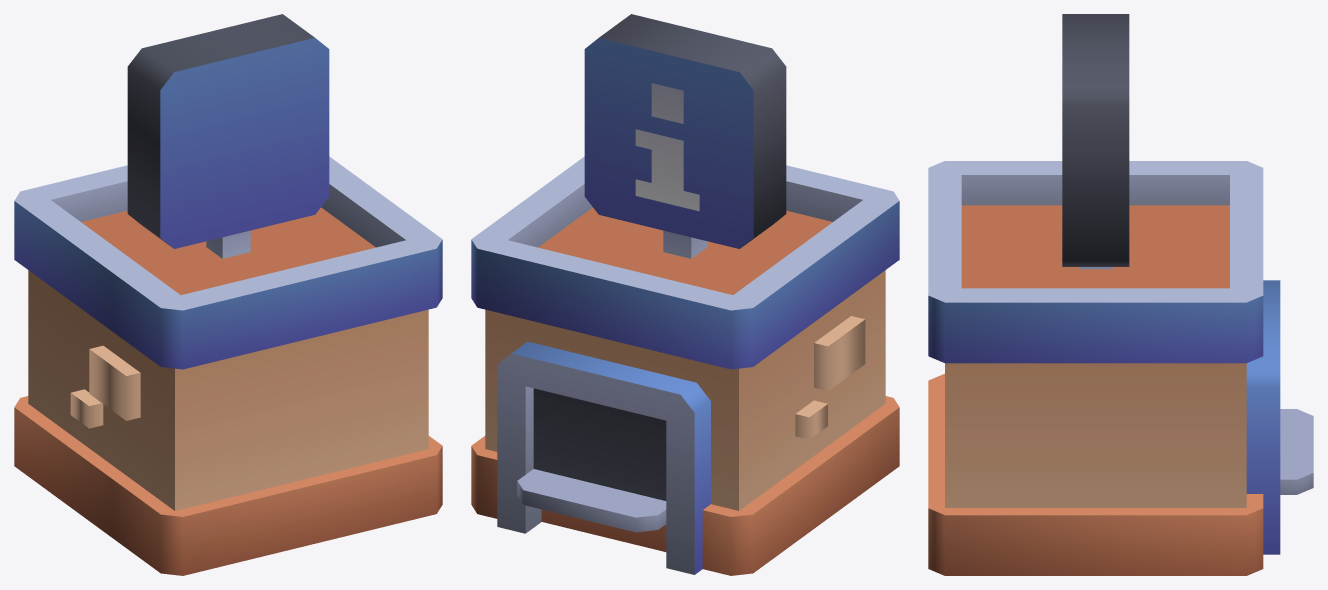
Rendered from kenney-coaster-stall-information.glb.
The picture shows the model from 3 angles, left to right: view 1: azimuth 30°, elevation 25°; view 2: azimuth 150°, elevation 25°; view 3: azimuth 270°, elevation 25°; orthographic projection. The views are drawn at different scales.
Parts seen in each view (by area): view 1: stall-information; view 2: stall-information; view 3: stall-information.
Boxes of the visible parts, <box> form: stall-information: <box>14,14,442,575</box>; stall-information: <box>471,14,899,575</box>; stall-information: <box>928,14,1313,575</box>.
Size of the model in its own units: 1 by 1.5 by 1.15.
1 material, 1 textured.
